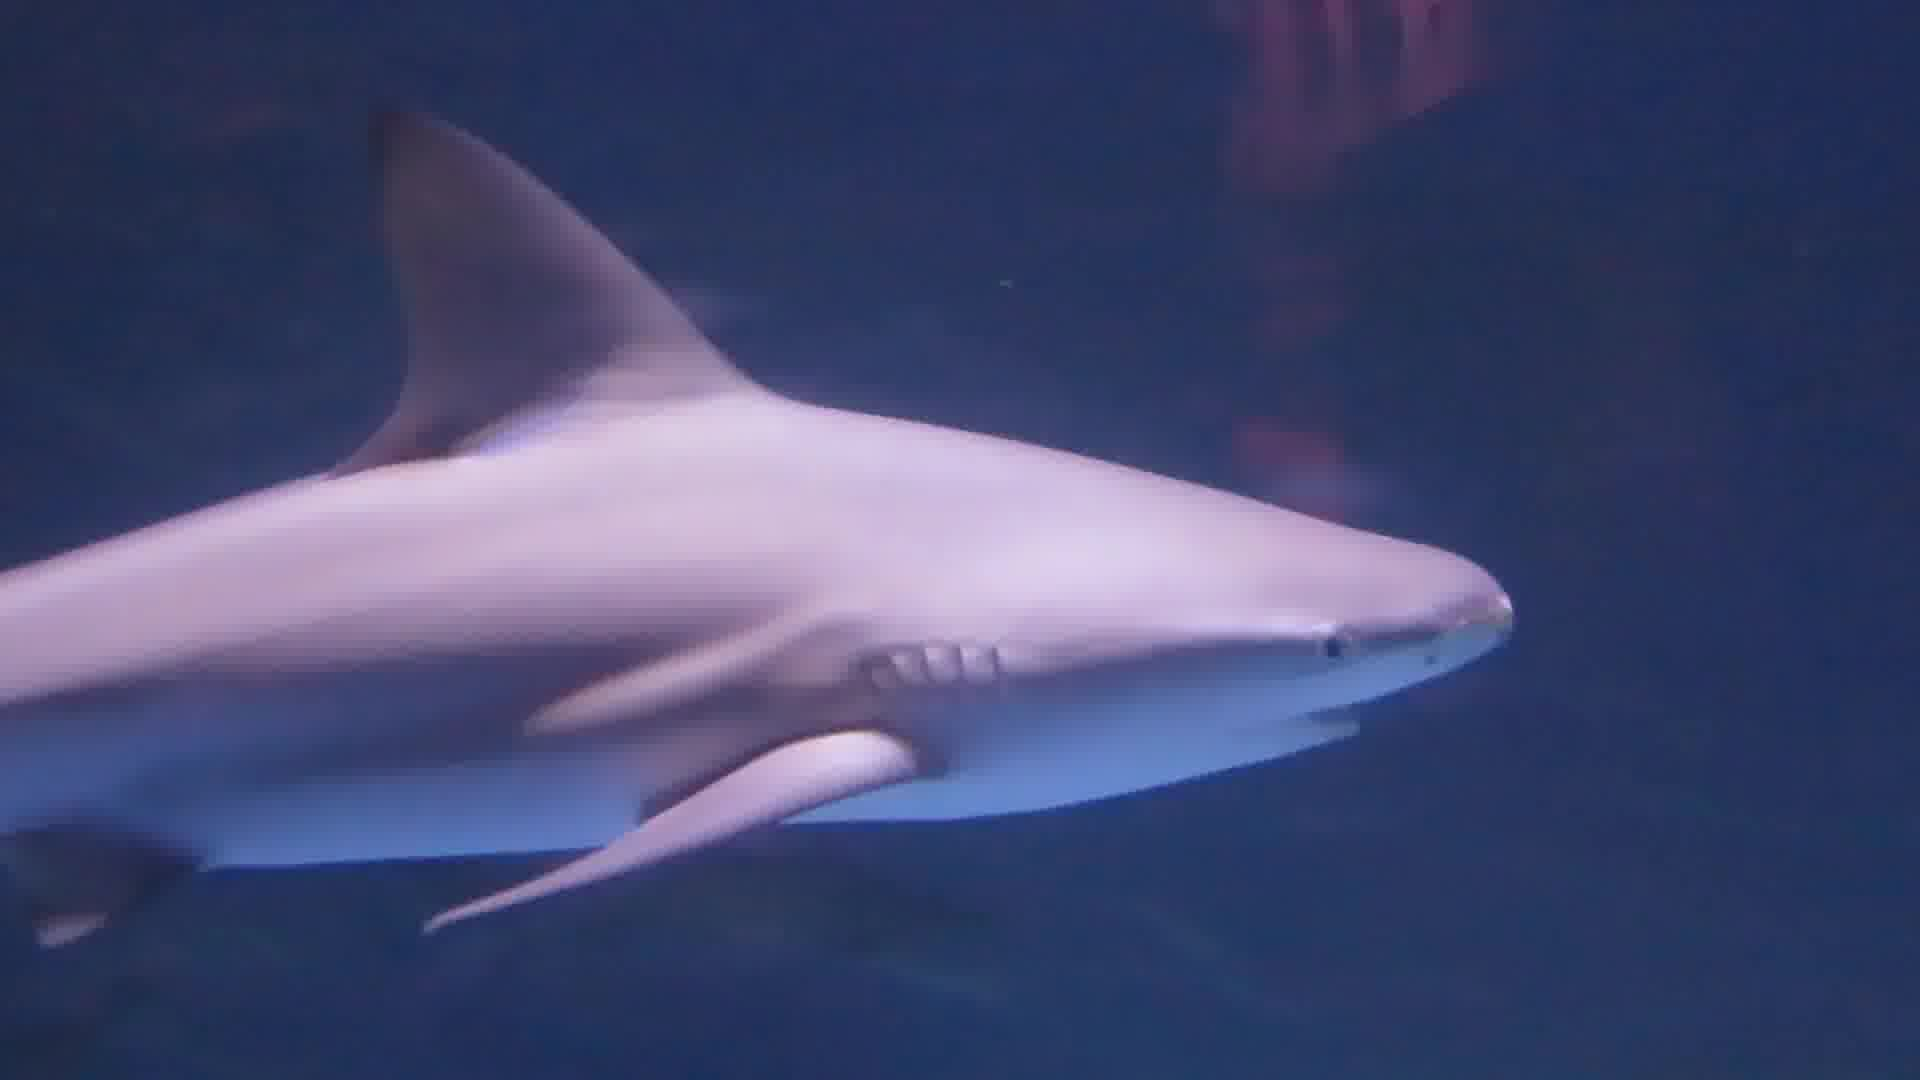Carcharhinus leucas: (26, 42, 1568, 1015)
